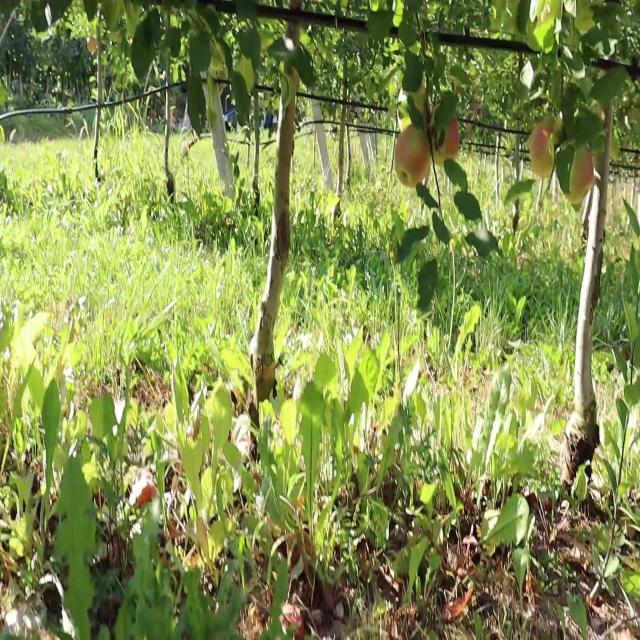apple: (396, 120, 433, 185), (532, 120, 555, 178), (436, 113, 461, 162), (396, 151, 427, 190), (569, 149, 596, 192), (136, 483, 158, 510), (564, 186, 589, 208)
